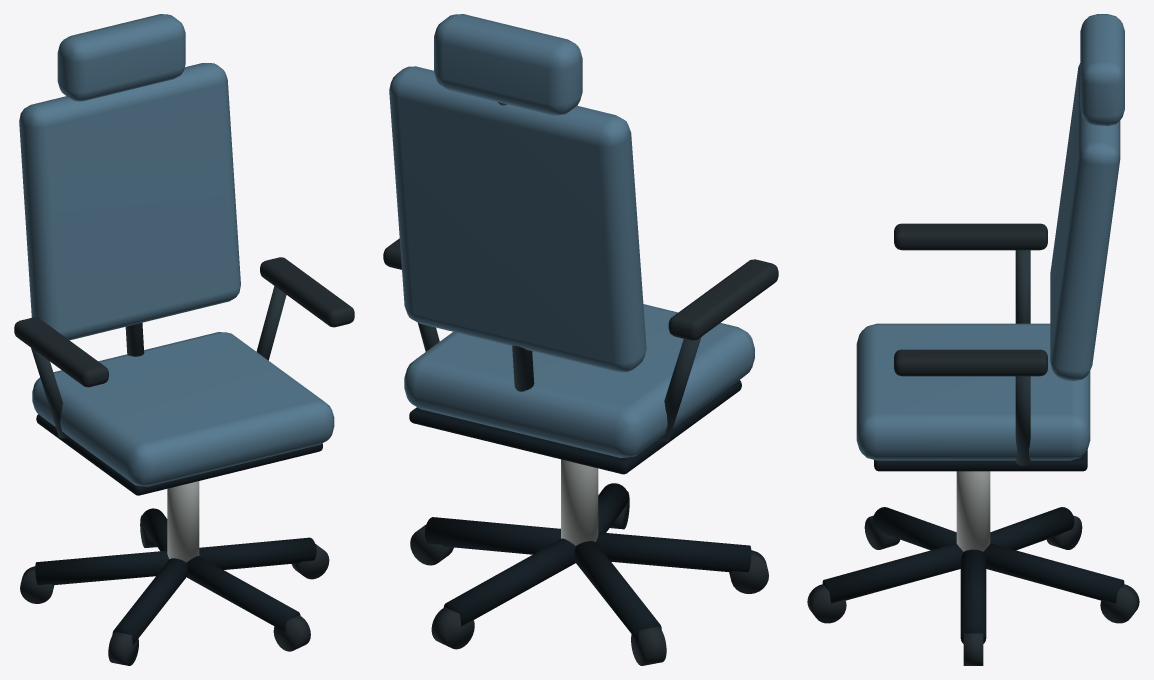
Rendered from office_chair.glb.
The picture shows the model from 3 angles, left to right: view 1: azimuth 30°, elevation 25°; view 2: azimuth 150°, elevation 25°; view 3: azimuth 270°, elevation 25°; orthographic projection. The views are drawn at different scales.
Visible parts, largest first — view 1: office_chair_Mesh; view 2: office_chair_Mesh; view 3: office_chair_Mesh.
Boxes of the visible parts, box(x1,y1,x2,y2) form: office_chair_Mesh: box(14, 14, 354, 665); office_chair_Mesh: box(383, 14, 778, 665); office_chair_Mesh: box(807, 14, 1139, 665).
Bounding box in the file's own units: 0.6775 × 1.24 × 0.6686.
